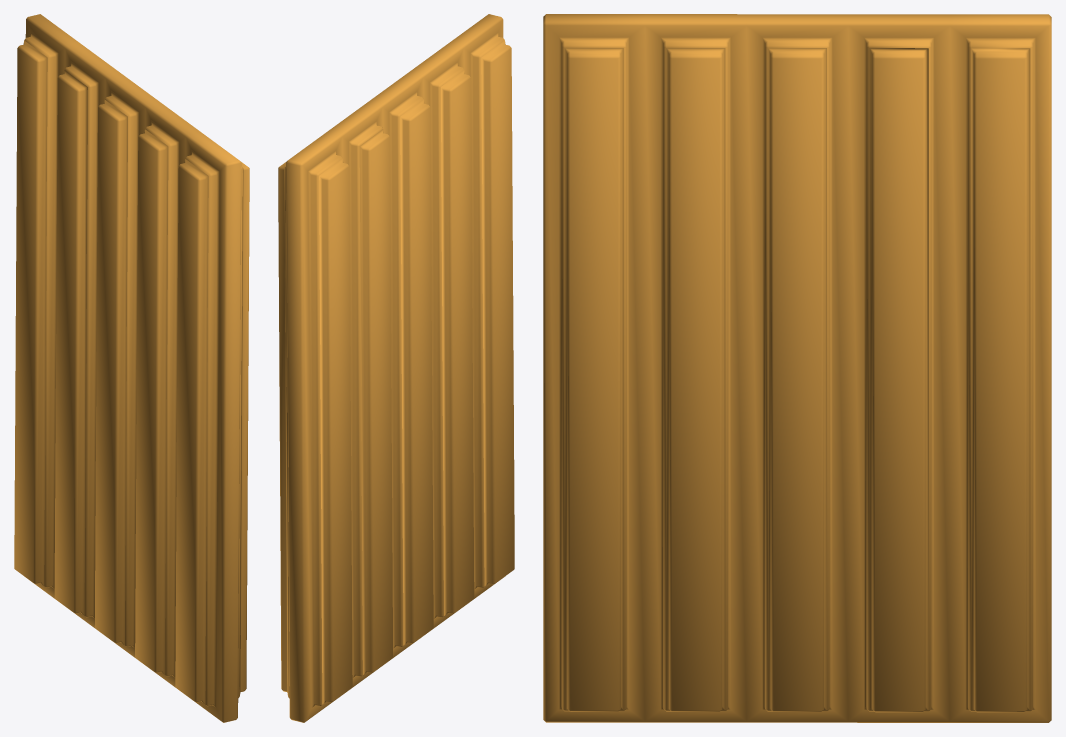
The model's file is SM_Castles_Door.fbx.
3 views of the same model, side by side, from view 1: azimuth 30°, elevation 25°; view 2: azimuth 150°, elevation 25°; view 3: azimuth 270°, elevation 25° (orthographic). The views are drawn at different scales.
Visible parts, largest first — view 1: Castle_Door; view 2: Castle_Door; view 3: Castle_Door.
Boxes of the visible parts, x1,y1,x2,y2 form: Castle_Door: [14, 14, 249, 722]; Castle_Door: [278, 14, 514, 722]; Castle_Door: [543, 14, 1051, 722].
Bounding box in the file's own units: 42.37 × 404 × 265.
